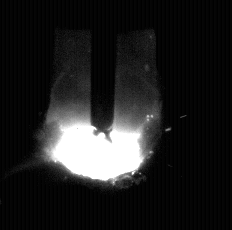arame: (91, 0, 115, 143)
poca: (46, 0, 160, 230)
